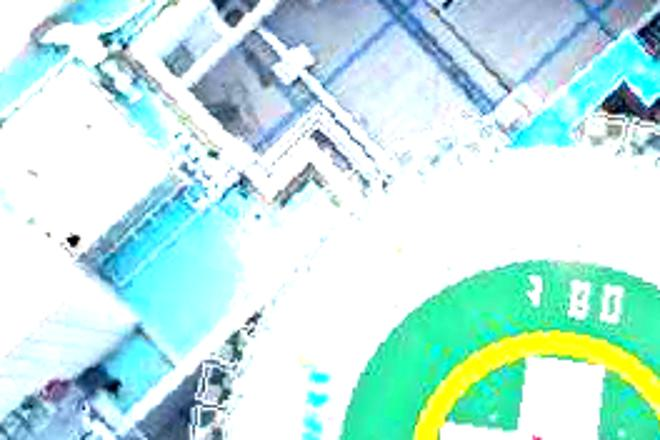Apron: (393, 302, 660, 440)
